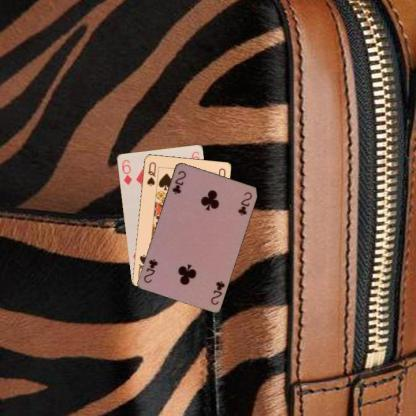2c: (169, 168, 187, 196), (208, 278, 226, 306)
6d: (119, 157, 133, 186)
Qs: (144, 158, 158, 188)
